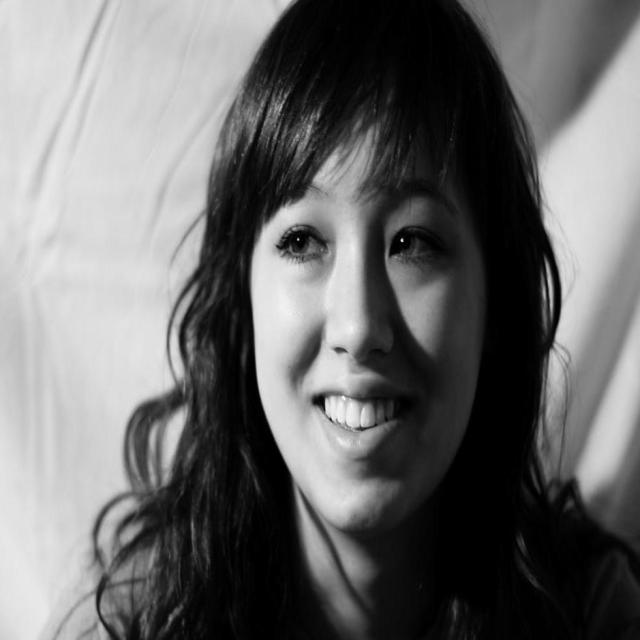no-glass: (269, 227, 438, 263)
